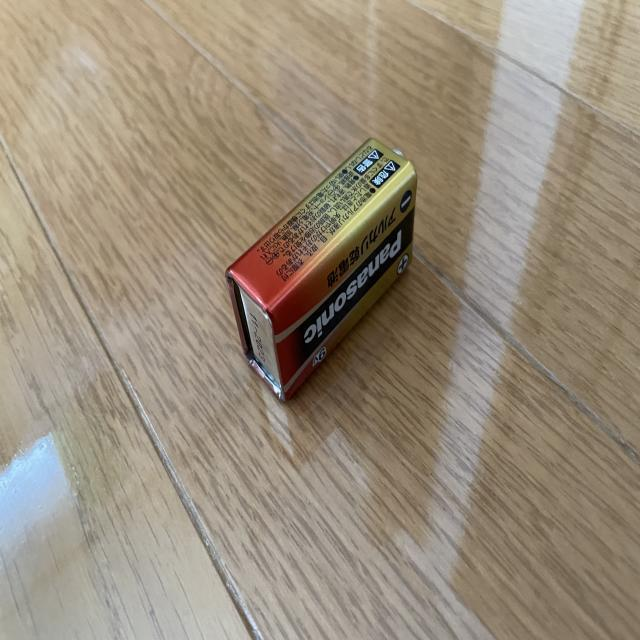9V: (227, 134, 419, 403)
